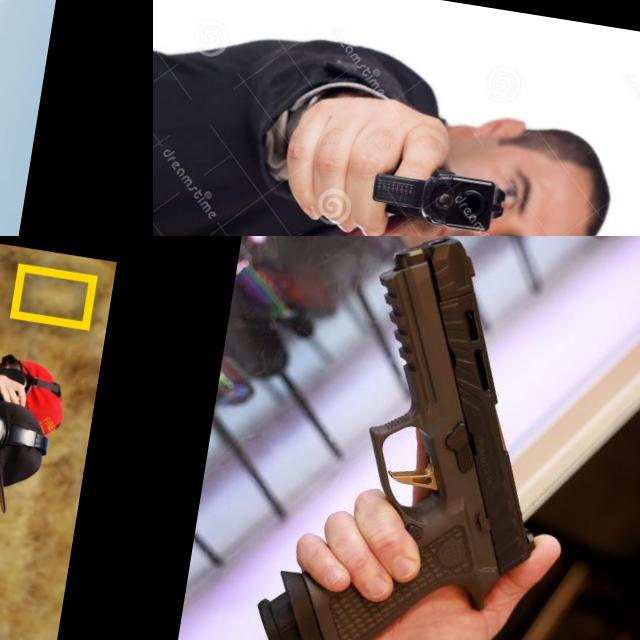handgun: (241, 236, 585, 640), (364, 156, 510, 236), (0, 144, 43, 236)
